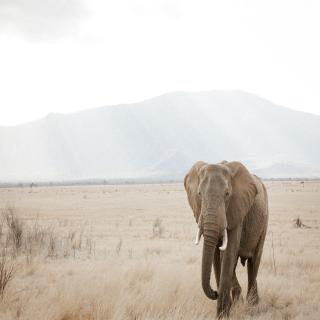Elephant: (181, 154, 276, 318)
